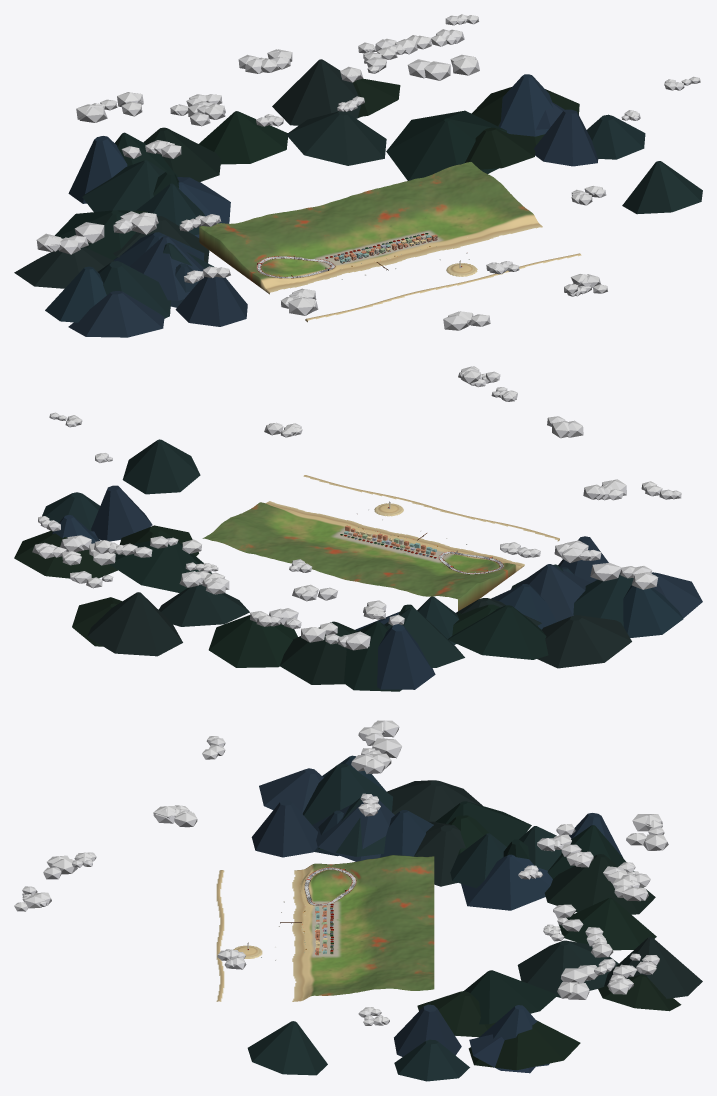
File: level.glb
The picture shows the model from 3 angles, top to bottom: view 1: azimuth 30°, elevation 25°; view 2: azimuth 150°, elevation 25°; view 3: azimuth 270°, elevation 25°; orthographic projection. The views are drawn at different scales.
Visible parts, largest first — view 1: backdrop, clouds, terrain_3_2, terrain_0_3, terrain_0_2, terrain_3_3, terrain_2_3, terrain_2_2, terrain_1_2, terrain_1_3, terrain_3_1, terrain_0_1 (+4 smaller); view 2: backdrop, clouds, terrain_0_3, terrain_3_3, terrain_1_3, terrain_3_2, terrain_2_3, terrain_0_2, terrain_2_2, terrain_1_2, props, terrain_3_1 (+3 smaller); view 3: backdrop, clouds, terrain_0_3, terrain_1_3, terrain_0_2, terrain_2_3, terrain_2_2, terrain_1_2, terrain_3_3, terrain_3_2, terrain_0_1, terrain_3_1 (+3 smaller).
Boxes of the visible parts, bbox=[...] form: backdrop: bbox=[14, 59, 702, 337]; clouds: bbox=[36, 14, 700, 330]; terrain_3_2: bbox=[432, 183, 528, 232]; terrain_0_3: bbox=[199, 215, 295, 263]; terrain_0_2: bbox=[228, 238, 324, 284]; terrain_3_3: bbox=[404, 162, 500, 206]; terrain_2_3: bbox=[336, 182, 432, 223]; terrain_2_2: bbox=[365, 206, 460, 247]; terrain_1_2: bbox=[296, 223, 391, 265]; terrain_1_3: bbox=[267, 201, 363, 238]; terrain_3_1: bbox=[462, 210, 542, 242]; terrain_0_1: bbox=[257, 265, 337, 294]; backdrop: bbox=[14, 439, 702, 691]; clouds: bbox=[32, 366, 681, 650]; terrain_0_3: bbox=[394, 570, 485, 611]; terrain_3_3: bbox=[202, 518, 292, 556]; terrain_1_3: bbox=[330, 556, 420, 587]; terrain_3_2: bbox=[230, 504, 319, 540]; terrain_2_3: bbox=[266, 540, 356, 574]; terrain_0_2: bbox=[422, 556, 512, 594]; terrain_2_2: bbox=[294, 525, 383, 556]; terrain_1_2: bbox=[358, 540, 448, 570]; props: bbox=[340, 501, 492, 572]; terrain_3_1: bbox=[257, 501, 332, 524]; backdrop: bbox=[247, 755, 702, 1081]; clouds: bbox=[14, 720, 668, 1025]; terrain_0_3: bbox=[377, 855, 434, 895]; terrain_1_3: bbox=[377, 893, 434, 930]; terrain_0_2: bbox=[319, 858, 376, 902]; terrain_2_3: bbox=[377, 929, 434, 963]; terrain_2_2: bbox=[319, 930, 376, 967]; terrain_1_2: bbox=[319, 896, 376, 934]; terrain_3_3: bbox=[377, 959, 434, 990]; terrain_3_2: bbox=[319, 963, 376, 995]; terrain_0_1: bbox=[292, 863, 319, 903]; terrain_3_1: bbox=[292, 968, 319, 1001].
Size of the model in its own units: 3088 by 414 by 2834.
